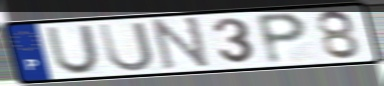3: (211, 17, 256, 66)
8: (315, 8, 362, 62)
N: (151, 15, 213, 72)
P: (253, 11, 310, 66)
U: (96, 20, 157, 73), (44, 23, 102, 76)
